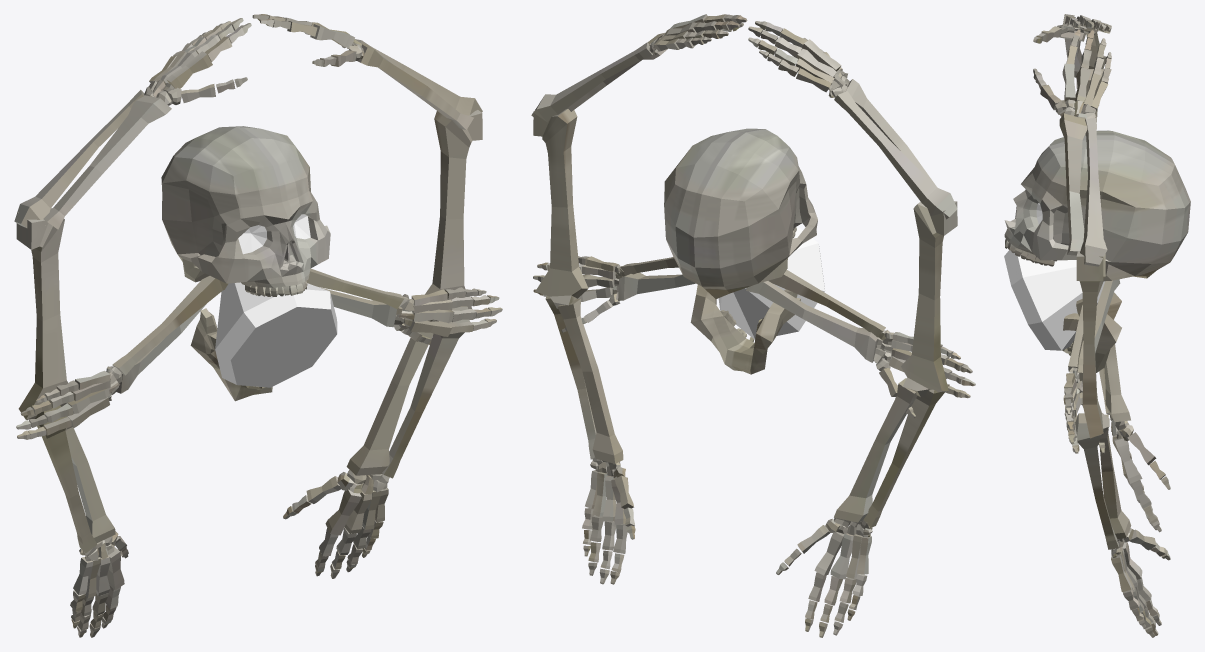
Rendered from SkullButton.fbx.
3 renders of one model, left to right at view 1: azimuth 30°, elevation 25°; view 2: azimuth 150°, elevation 25°; view 3: azimuth 270°, elevation 25°, orthographic. The views are drawn at different scales.
Visible parts, largest first — view 1: Cylinder.002; view 2: Cylinder.002; view 3: Cylinder.002.
Part boxes in pixels (x1=…): Cylinder.002: x1=14, y1=14, x2=502, y2=637; Cylinder.002: x1=531, y1=14, x2=975, y2=637; Cylinder.002: x1=1004, y1=14, x2=1190, y2=637.
Bounding box in the file's own units: 2173 × 2645 × 805.
2 materials, 2 textured.
